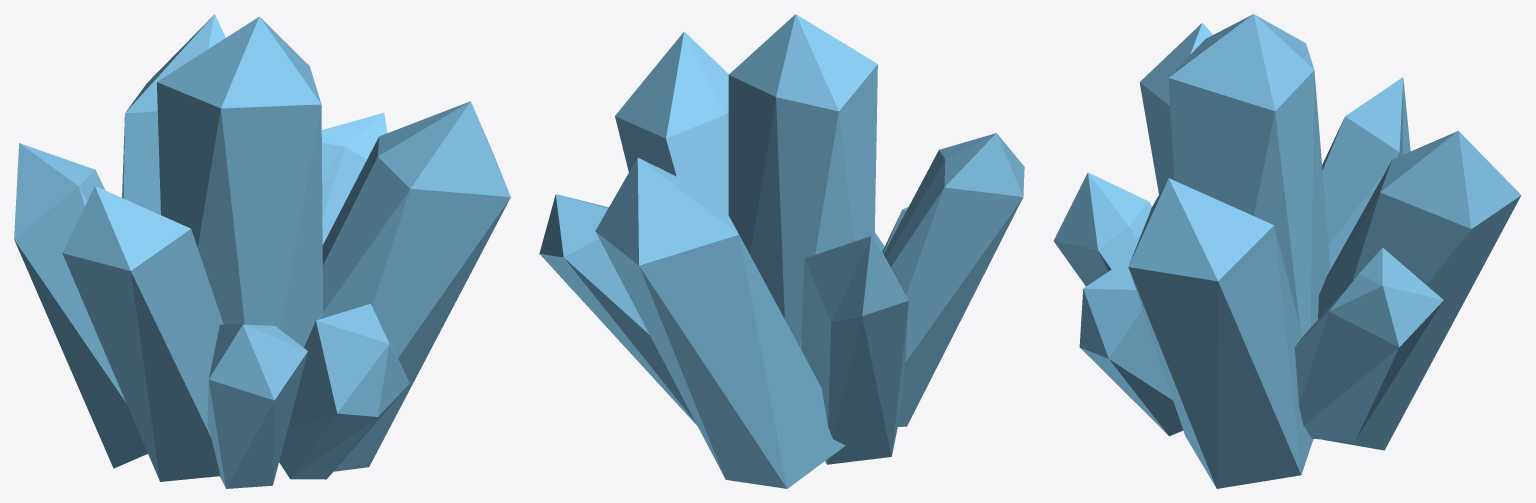
The model's file is lightblue_crystal_block.obj.
3 views of the same model, side by side, from view 1: azimuth 30°, elevation 25°; view 2: azimuth 150°, elevation 25°; view 3: azimuth 270°, elevation 25° (orthographic). The views are drawn at different scales.
Parts seen in each view (by area): view 1: Icosphere.036_Icosphere.037; view 2: Icosphere.036_Icosphere.037; view 3: Icosphere.036_Icosphere.037.
Part boxes in pixels (box(x1,y1,x2,y2)): Icosphere.036_Icosphere.037: box(14, 14, 510, 488); Icosphere.036_Icosphere.037: box(539, 14, 1024, 488); Icosphere.036_Icosphere.037: box(1053, 14, 1521, 488).
Size of the model in its own units: 1.01 by 1.01 by 0.9894.
